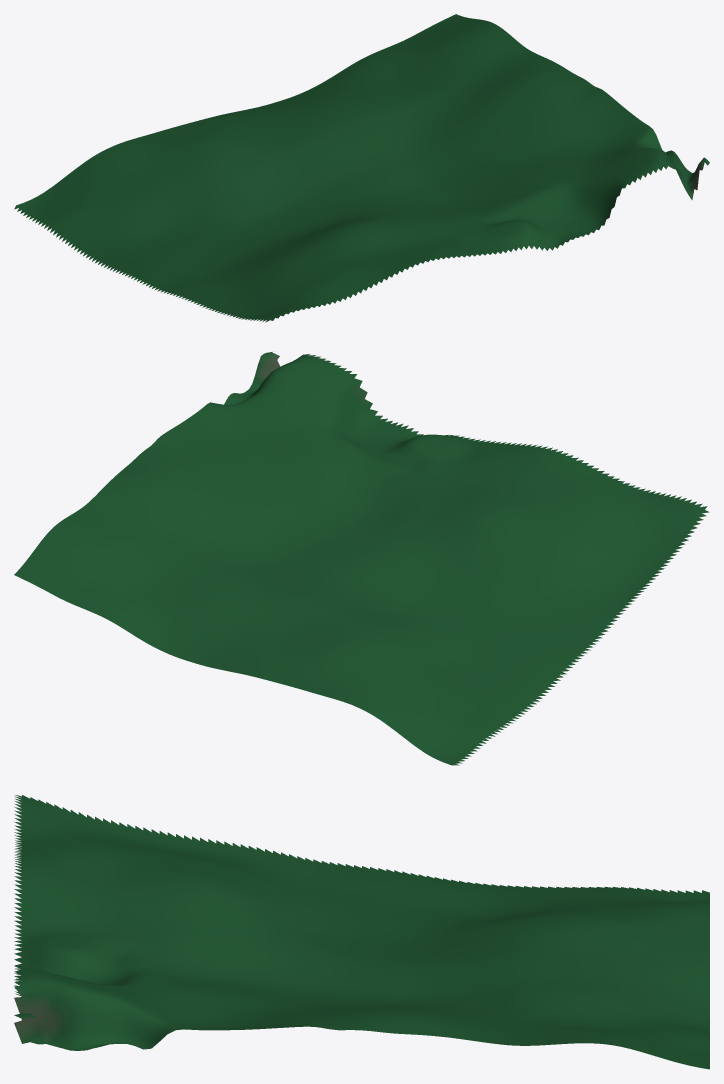
File: payo_land_x1_ym2_lod1.glb
3 views of the same model, one above another, from view 1: azimuth 30°, elevation 25°; view 2: azimuth 150°, elevation 25°; view 3: azimuth 270°, elevation 25° (orthographic). The views are drawn at different scales.
Parts seen in each view (by area): view 1: payo_land_x1_ym2; view 2: payo_land_x1_ym2; view 3: payo_land_x1_ym2.
Part boxes in pixels (x1,y1,x2,y2): payo_land_x1_ym2: [14, 14, 709, 322]; payo_land_x1_ym2: [14, 351, 709, 765]; payo_land_x1_ym2: [14, 795, 709, 1069].
Size of the model in its own units: 258 by 72.44 by 258.
